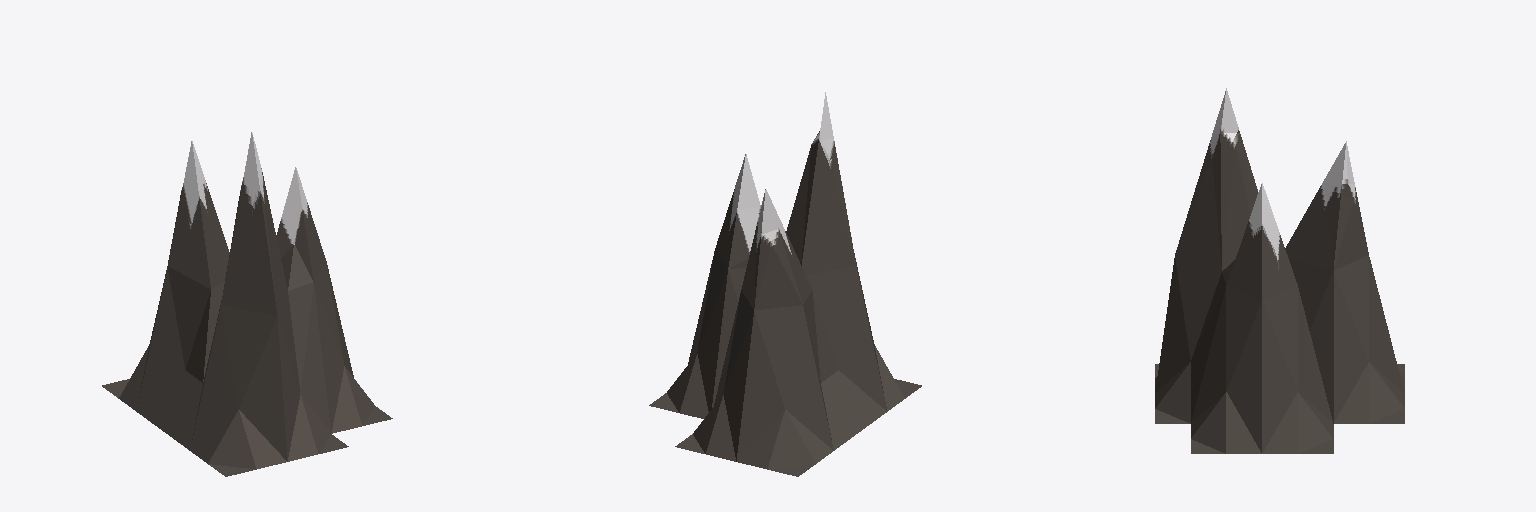
3 views of the same model, side by side, from view 1: azimuth 30°, elevation 25°; view 2: azimuth 150°, elevation 25°; view 3: azimuth 270°, elevation 25° (orthographic).
Parts seen in each view (by area): view 1: Plane; view 2: Plane; view 3: Plane.
Boxes of the visible parts, x1,y1,x2,y2 form: Plane: [102, 132, 392, 476]; Plane: [649, 92, 921, 476]; Plane: [1155, 88, 1404, 453].
Bounding box in the file's own units: 21.74 × 34.27 × 25.37.
Materials: 1 (1 with a texture image).